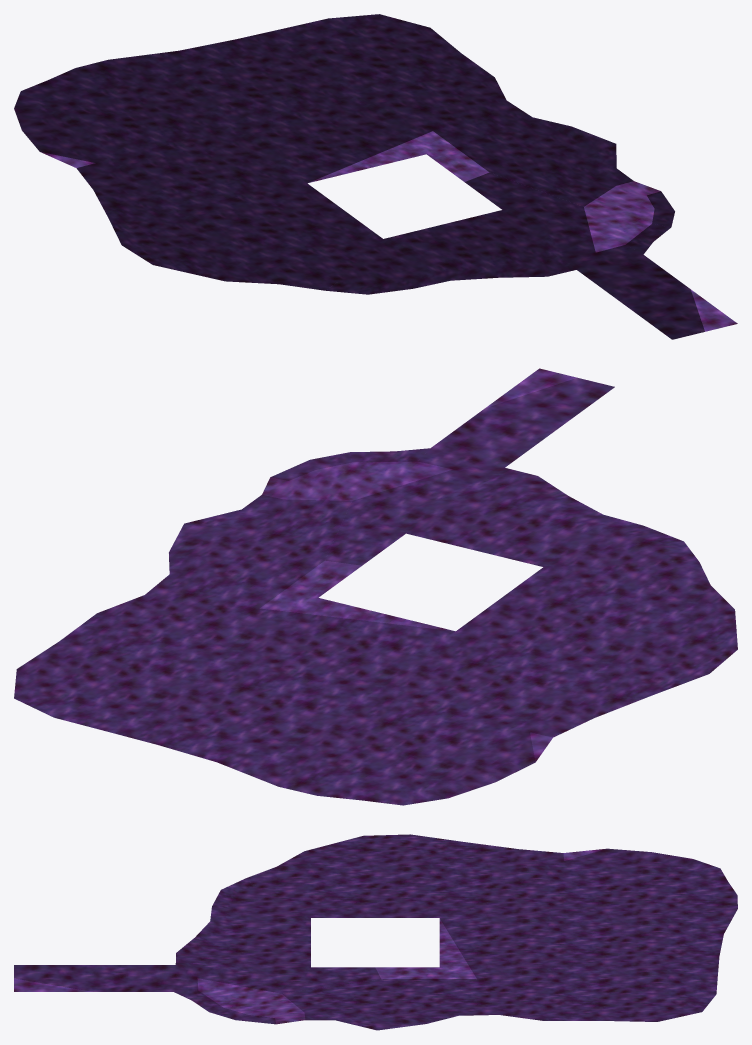
The model's file is stg410_MotWater_22.obj.
3 views of the same model, one above another, from view 1: azimuth 30°, elevation 25°; view 2: azimuth 150°, elevation 25°; view 3: azimuth 270°, elevation 25° (orthographic). The views are drawn at different scales.
Visible parts, largest first — view 1: polygon0; view 2: polygon0; view 3: polygon0.
Part boxes in pixels (x1,y1,x2,y2): polygon0: (14, 14, 737, 339); polygon0: (14, 368, 737, 805); polygon0: (14, 834, 737, 1030).
Size of the model in its own units: 2157 by 0 by 3367.
Materials: 1 (1 with a texture image).
